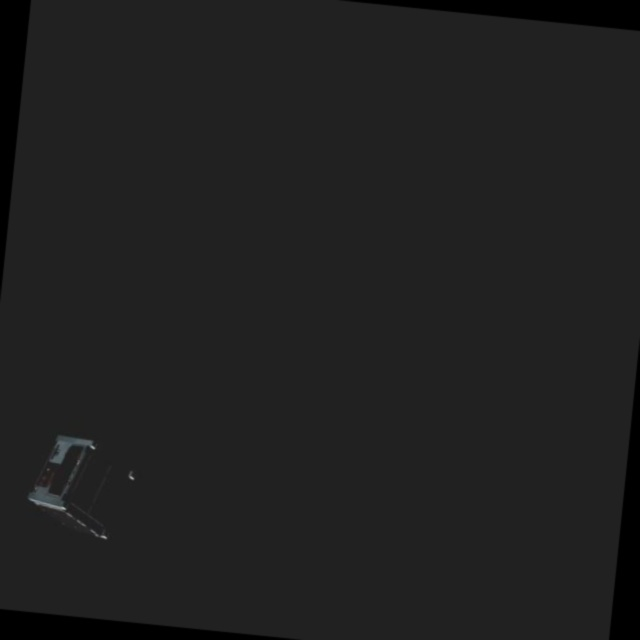satellite: (15, 425, 141, 550)
